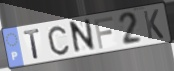2: (117, 11, 144, 48)
C: (47, 25, 71, 56)
F: (93, 15, 115, 50)
K: (141, 8, 165, 41)
N: (70, 17, 97, 56)
T: (23, 28, 42, 61)
